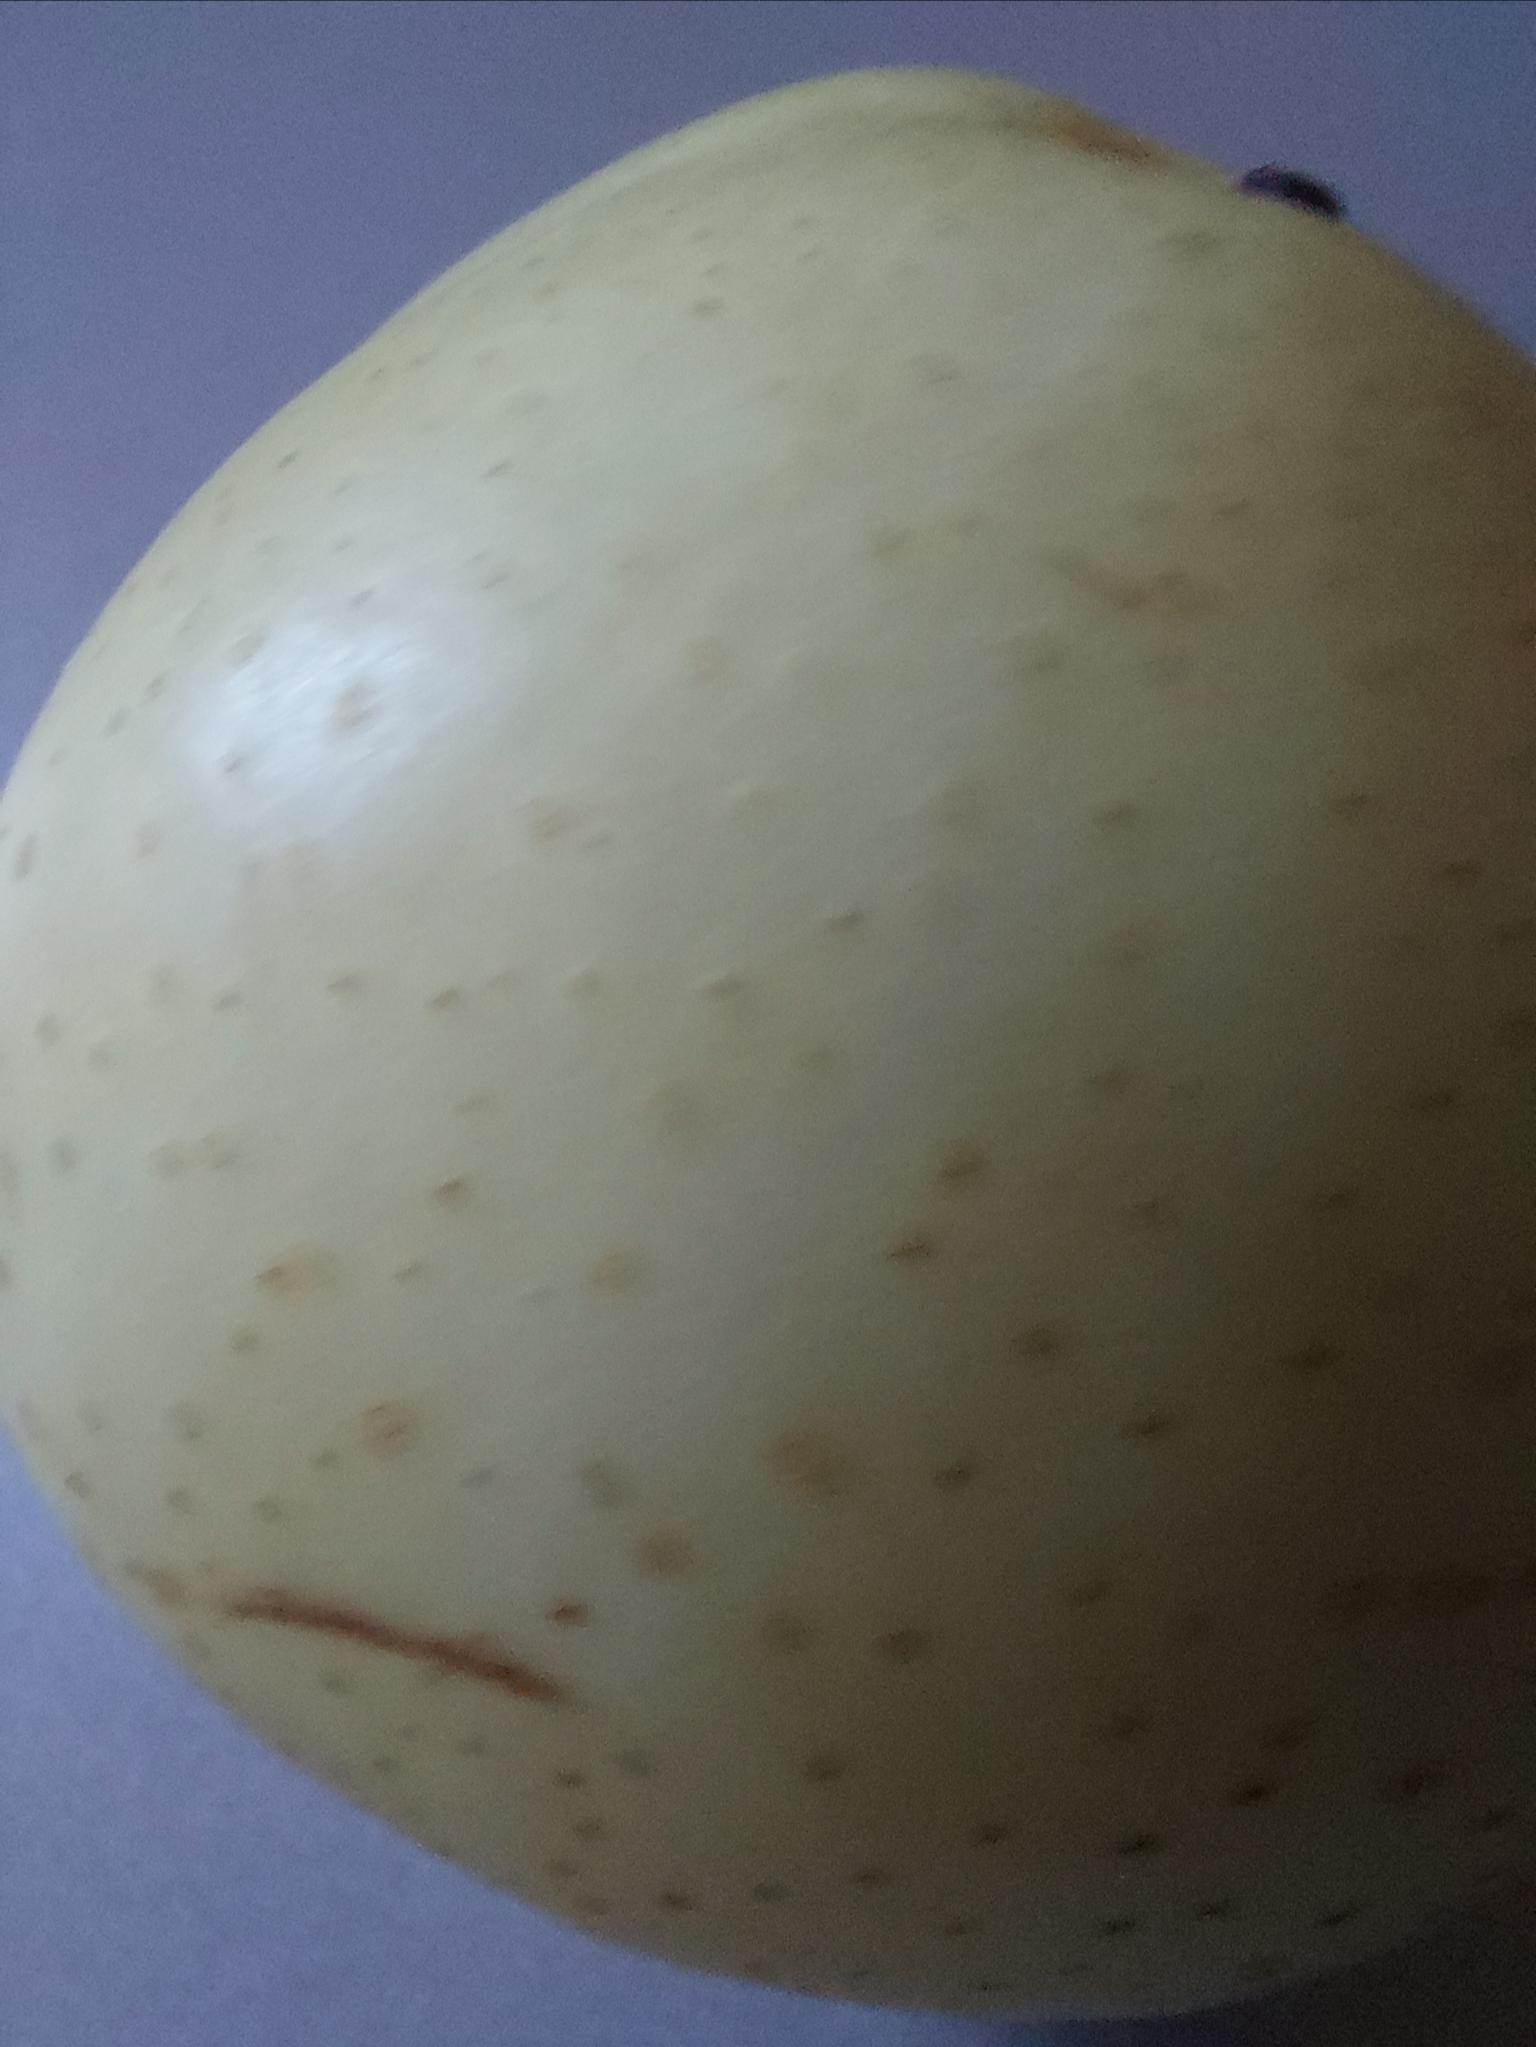Good Pear: (0, 0, 1533, 2047)
